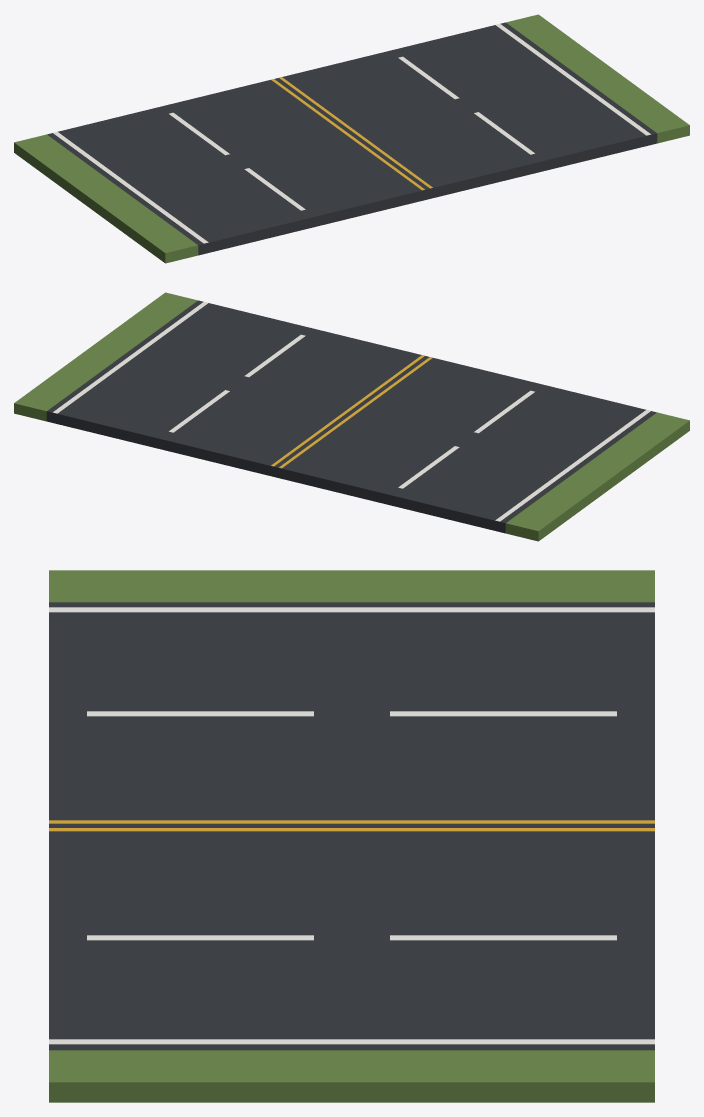
File: Road_4Lane_NoSidewalk_Straight_8m.glb
3 renders of one model, top to bottom at view 1: azimuth 30°, elevation 25°; view 2: azimuth 150°, elevation 25°; view 3: azimuth 270°, elevation 25°, orthographic. The views are drawn at different scales.
Parts seen in each view (by area): view 1: Road_4Lane_NoSidewalk_Straight_8m_Asphalt, Road_4Lane_NoSidewalk_Straight_8m_Grass-edge, Road_4Lane_NoSidewalk_Straight_8m_PaintWhite, Road_4Lane_NoSidewalk_Straight_8m_PaintYellow; view 2: Road_4Lane_NoSidewalk_Straight_8m_Asphalt, Road_4Lane_NoSidewalk_Straight_8m_Grass-edge, Road_4Lane_NoSidewalk_Straight_8m_PaintWhite, Road_4Lane_NoSidewalk_Straight_8m_PaintYellow; view 3: Road_4Lane_NoSidewalk_Straight_8m_Asphalt, Road_4Lane_NoSidewalk_Straight_8m_Grass-edge, Road_4Lane_NoSidewalk_Straight_8m_PaintWhite, Road_4Lane_NoSidewalk_Straight_8m_PaintYellow.
Boxes of the visible parts, box(x1,y1,x2,y2) form: Road_4Lane_NoSidewalk_Straight_8m_Asphalt: box(47, 22, 657, 255); Road_4Lane_NoSidewalk_Straight_8m_Grass-edge: box(14, 14, 689, 263); Road_4Lane_NoSidewalk_Straight_8m_PaintWhite: box(53, 23, 650, 243); Road_4Lane_NoSidewalk_Straight_8m_PaintYellow: box(271, 77, 432, 190); Road_4Lane_NoSidewalk_Straight_8m_Asphalt: box(46, 300, 656, 533); Road_4Lane_NoSidewalk_Straight_8m_Grass-edge: box(14, 292, 689, 541); Road_4Lane_NoSidewalk_Straight_8m_PaintWhite: box(53, 301, 650, 521); Road_4Lane_NoSidewalk_Straight_8m_PaintYellow: box(271, 355, 432, 468); Road_4Lane_NoSidewalk_Straight_8m_Asphalt: box(49, 602, 654, 1050); Road_4Lane_NoSidewalk_Straight_8m_Grass-edge: box(49, 570, 654, 1102); Road_4Lane_NoSidewalk_Straight_8m_PaintWhite: box(49, 607, 654, 1044); Road_4Lane_NoSidewalk_Straight_8m_PaintYellow: box(49, 820, 654, 831).
Bounding box in the file's own units: 16 × 0.305 × 8.
